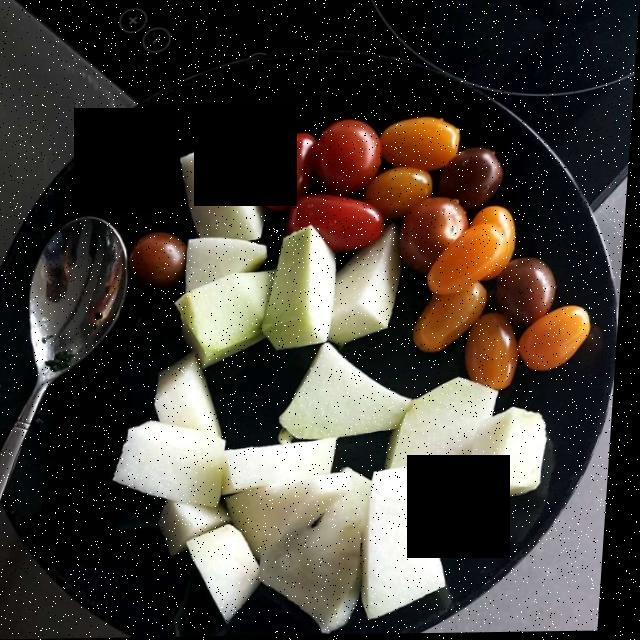kolhrabi: (116, 141, 563, 632)
tomato: (139, 118, 599, 389)
